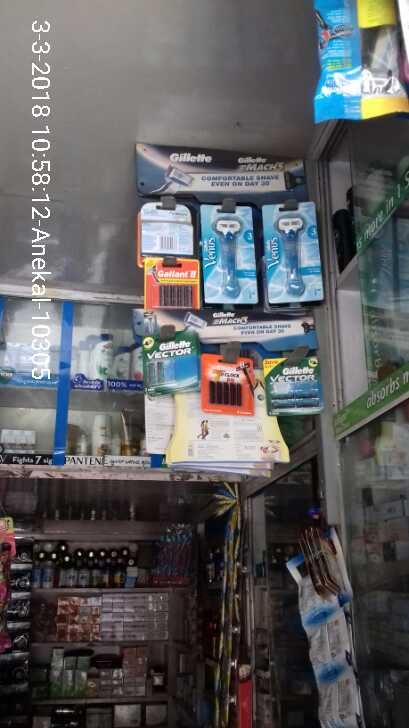beauty: (200, 203, 255, 300), (261, 200, 316, 295), (135, 330, 196, 396), (144, 254, 204, 311), (264, 355, 320, 414), (202, 353, 253, 415), (91, 331, 110, 384), (93, 413, 112, 456), (113, 343, 131, 384), (120, 404, 134, 452), (24, 430, 37, 460)
